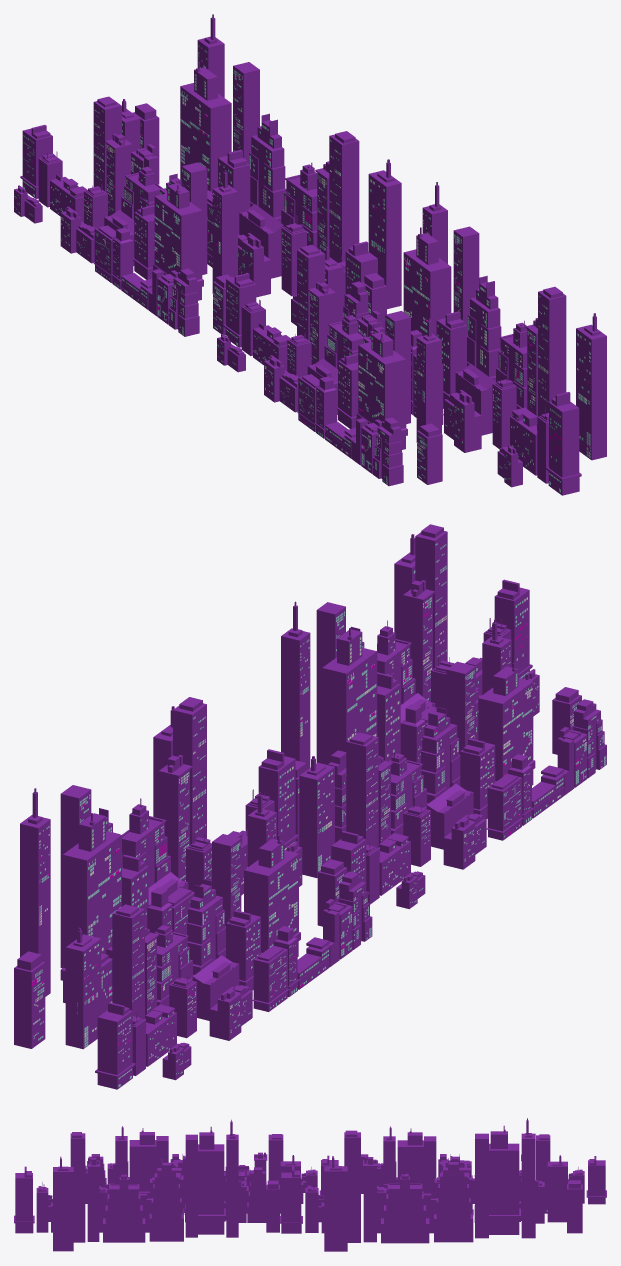
Rendered from Buildings+windows.fbx.
3 views of the same model, one above another, from view 1: azimuth 30°, elevation 25°; view 2: azimuth 150°, elevation 25°; view 3: azimuth 270°, elevation 25° (orthographic). The views are drawn at different scales.
Parts seen in each view (by area): view 1: buildings4:buildings, windows:windows; view 2: buildings4:buildings, windows:windows; view 3: buildings4:buildings.
Boxes of the visible parts, left/top/right/bottom form: buildings4:buildings: left=14, top=14, right=606, bottom=495; windows:windows: left=14, top=45, right=590, bottom=492; buildings4:buildings: left=14, top=524, right=606, bottom=1089; windows:windows: left=31, top=543, right=606, bottom=1087; buildings4:buildings: left=14, top=1118, right=606, bottom=1251.
Bounding box in the file's own units: 231 × 210 × 921.
